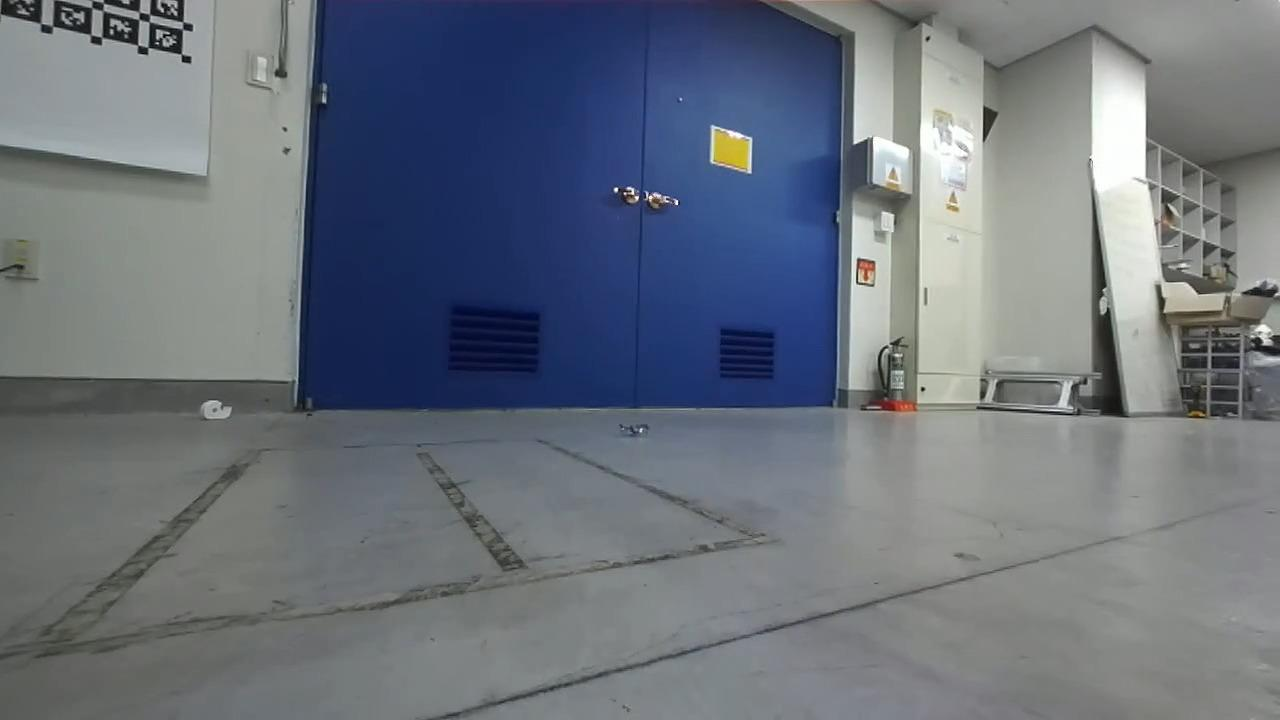crazyflie: (609, 417, 661, 443)
